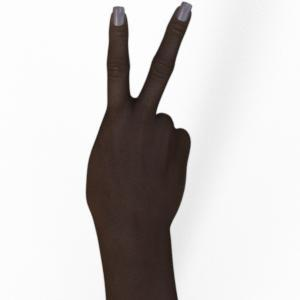scissors: (86, 2, 192, 300)
